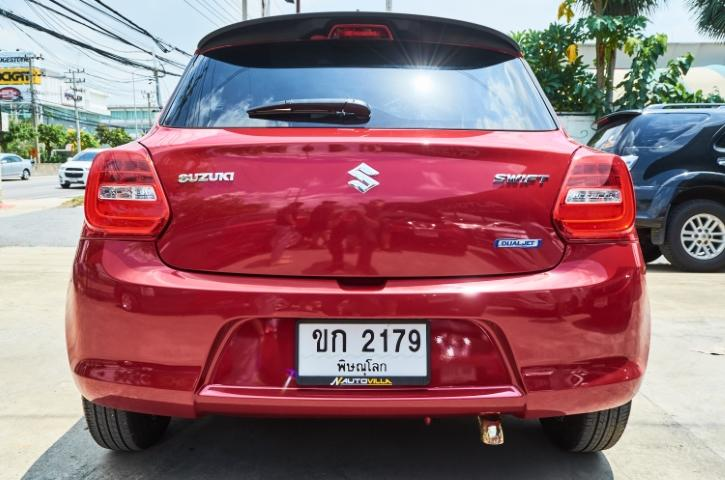license-plate: (297, 319, 431, 388)
